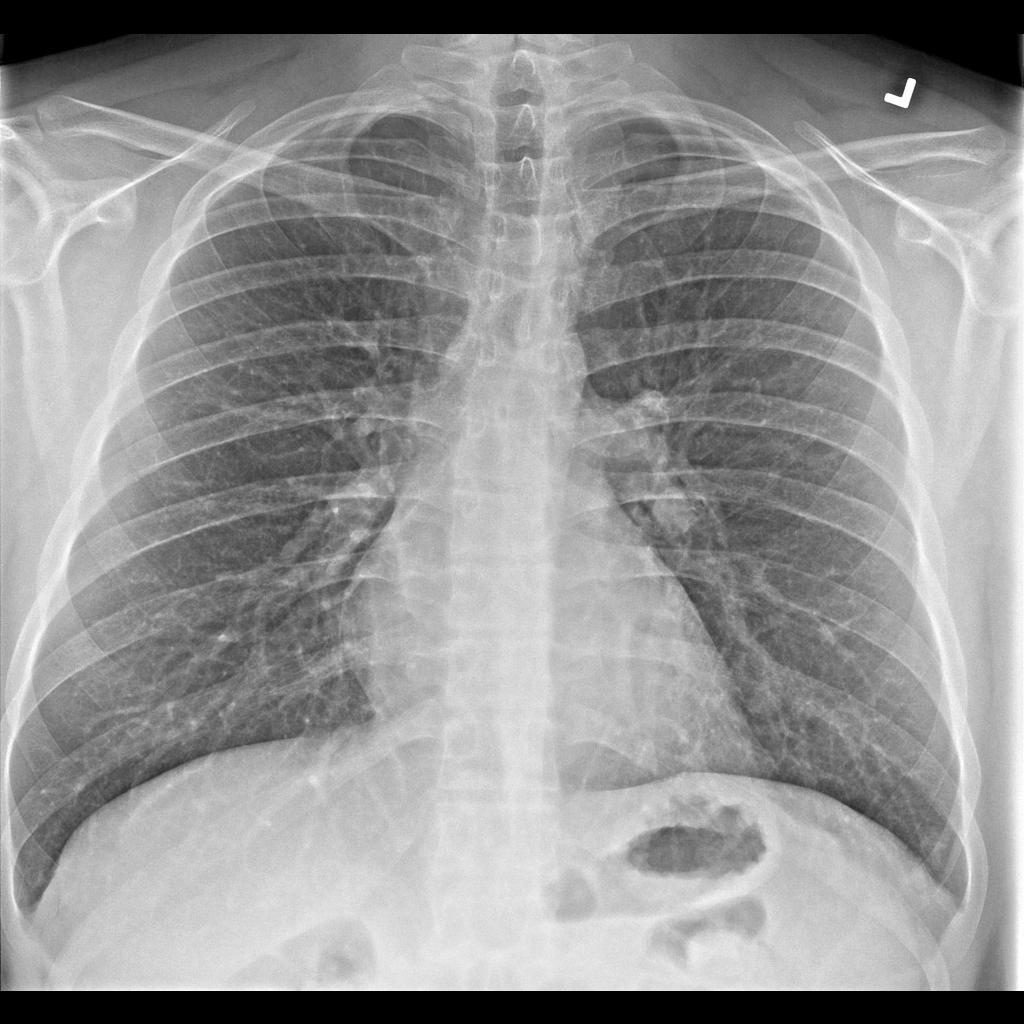Nodule: (644, 476, 701, 544)
